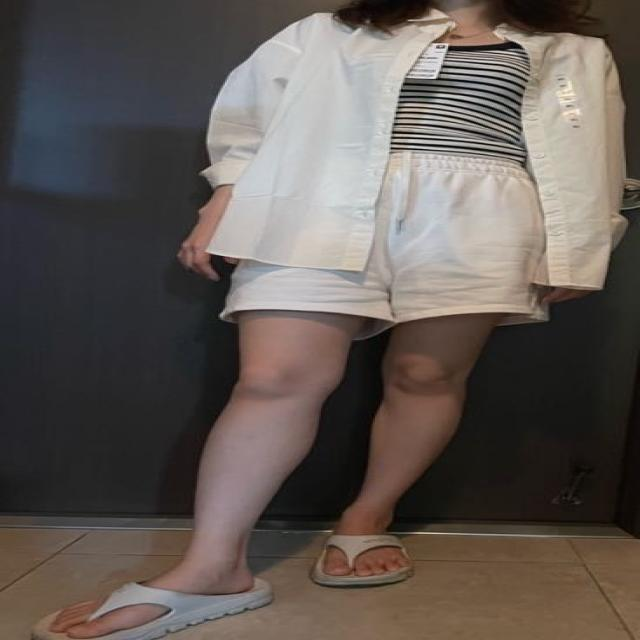shirt: (194, 1, 626, 289)
shortpants: (209, 152, 558, 332)
